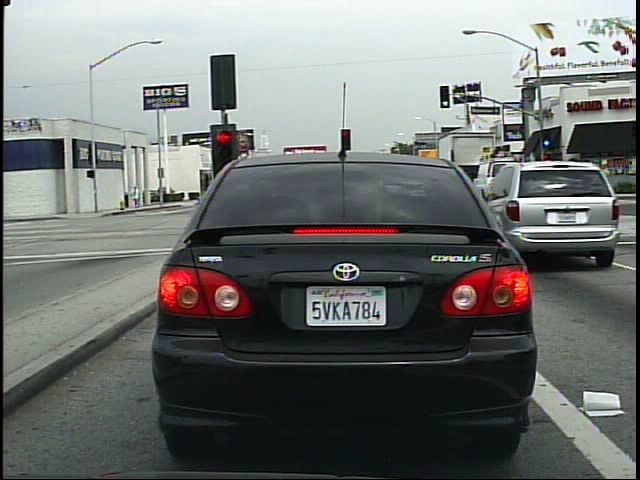person: (518, 169, 532, 202), (130, 182, 144, 211)
